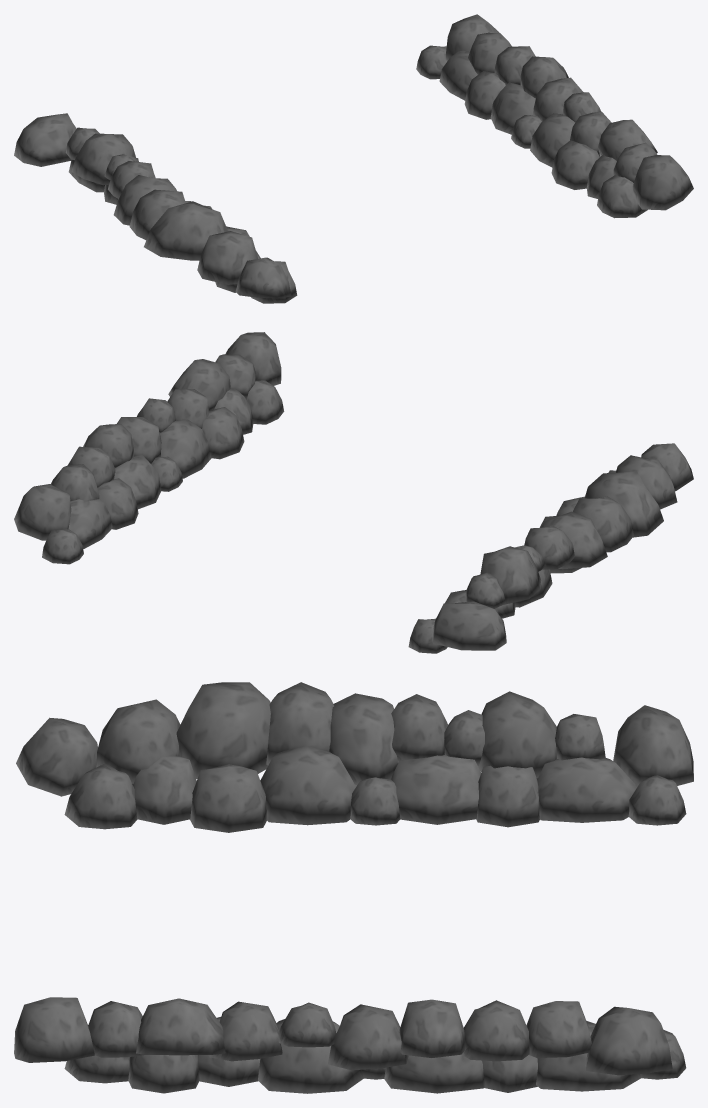
The model's file is Boulders_Edge2.fbx.
3 renders of one model, top to bottom at view 1: azimuth 30°, elevation 25°; view 2: azimuth 150°, elevation 25°; view 3: azimuth 270°, elevation 25°, orthographic. The views are drawn at different scales.
Visible parts, largest first — view 1: Boulder20, Boulder17, Boulder14, Boulder21, Boulder13, Boulder11, Boulder6, Boulder10, Boulder7, Boulder22, Boulder4, Boulder29 (+16 smaller); view 2: Boulder14, Boulder20, Boulder28, Boulder13, Boulder10, Boulder3 (×2), Boulder22, Boulder12, Boulder17, Boulder29, Boulder6, Boulder9 (+16 smaller); view 3: Boulder10 (×2), Boulder7 (×2), Boulder9 (×2), Boulder20, Boulder6 (×2), Boulder8 (×2), Boulder5 (×2), Boulder4 (×2), Boulder13, Boulder12, Boulder14, Boulder28 (+17 smaller).
Part boxes in pixels (bbox=[...]): Boulder20: bbox=[144, 201, 228, 260]; Boulder17: bbox=[633, 155, 693, 210]; Boulder14: bbox=[14, 113, 76, 166]; Boulder21: bbox=[197, 231, 257, 284]; Boulder13: bbox=[71, 133, 135, 185]; Boulder11: bbox=[235, 257, 291, 298]; Boulder6: bbox=[551, 140, 599, 189]; Boulder10: bbox=[530, 113, 575, 167]; Boulder7: bbox=[490, 82, 535, 134]; Boulder22: bbox=[129, 189, 185, 239]; Boulder4: bbox=[597, 175, 647, 218]; Boulder29: bbox=[598, 119, 657, 160]; Boulder14: bbox=[432, 601, 506, 650]; Boulder20: bbox=[584, 471, 663, 537]; Boulder28: bbox=[14, 484, 71, 540]; Boulder13: bbox=[480, 546, 541, 604]; Boulder10: bbox=[159, 419, 211, 478]; Boulder3 (×2): bbox=[42, 529, 447, 653]; Boulder22: bbox=[573, 496, 633, 552]; Boulder12: bbox=[541, 511, 607, 569]; Boulder17: bbox=[225, 332, 281, 385]; Boulder29: bbox=[168, 359, 230, 410]; Boulder6: bbox=[202, 407, 244, 459]; Boulder9: bbox=[68, 499, 112, 548]; Boulder10 (×2): bbox=[258, 746, 363, 1093]; Boulder7 (×2): bbox=[384, 755, 485, 1093]; Boulder9 (×2): bbox=[536, 757, 640, 1091]; Boulder20: bbox=[176, 682, 270, 778]; Boulder6 (×2): bbox=[190, 764, 266, 1086]; Boulder8 (×2): bbox=[128, 756, 199, 1093]; Boulder5 (×2): bbox=[476, 765, 539, 1092]; Boulder4 (×2): bbox=[64, 763, 137, 1083]; Boulder13: bbox=[478, 691, 556, 778]; Boulder12: bbox=[329, 693, 398, 784]; Boulder14: bbox=[613, 705, 693, 786]; Boulder28: bbox=[585, 1006, 672, 1075].
Bounding box in the file's own units: 4020 × 532 × 3301.
Materials: 1 (1 with a texture image).
